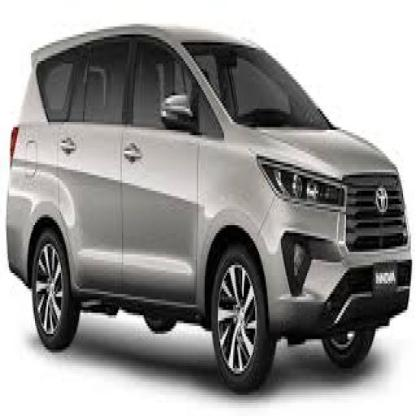car: (2, 14, 414, 401)
